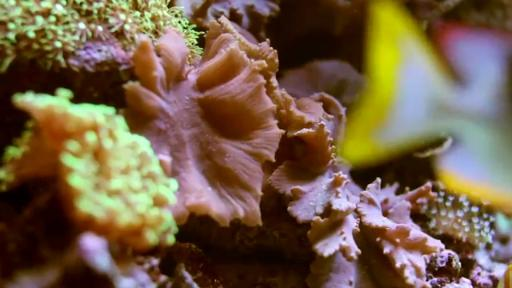Fish: (338, 0, 511, 212), (497, 265, 511, 287)
